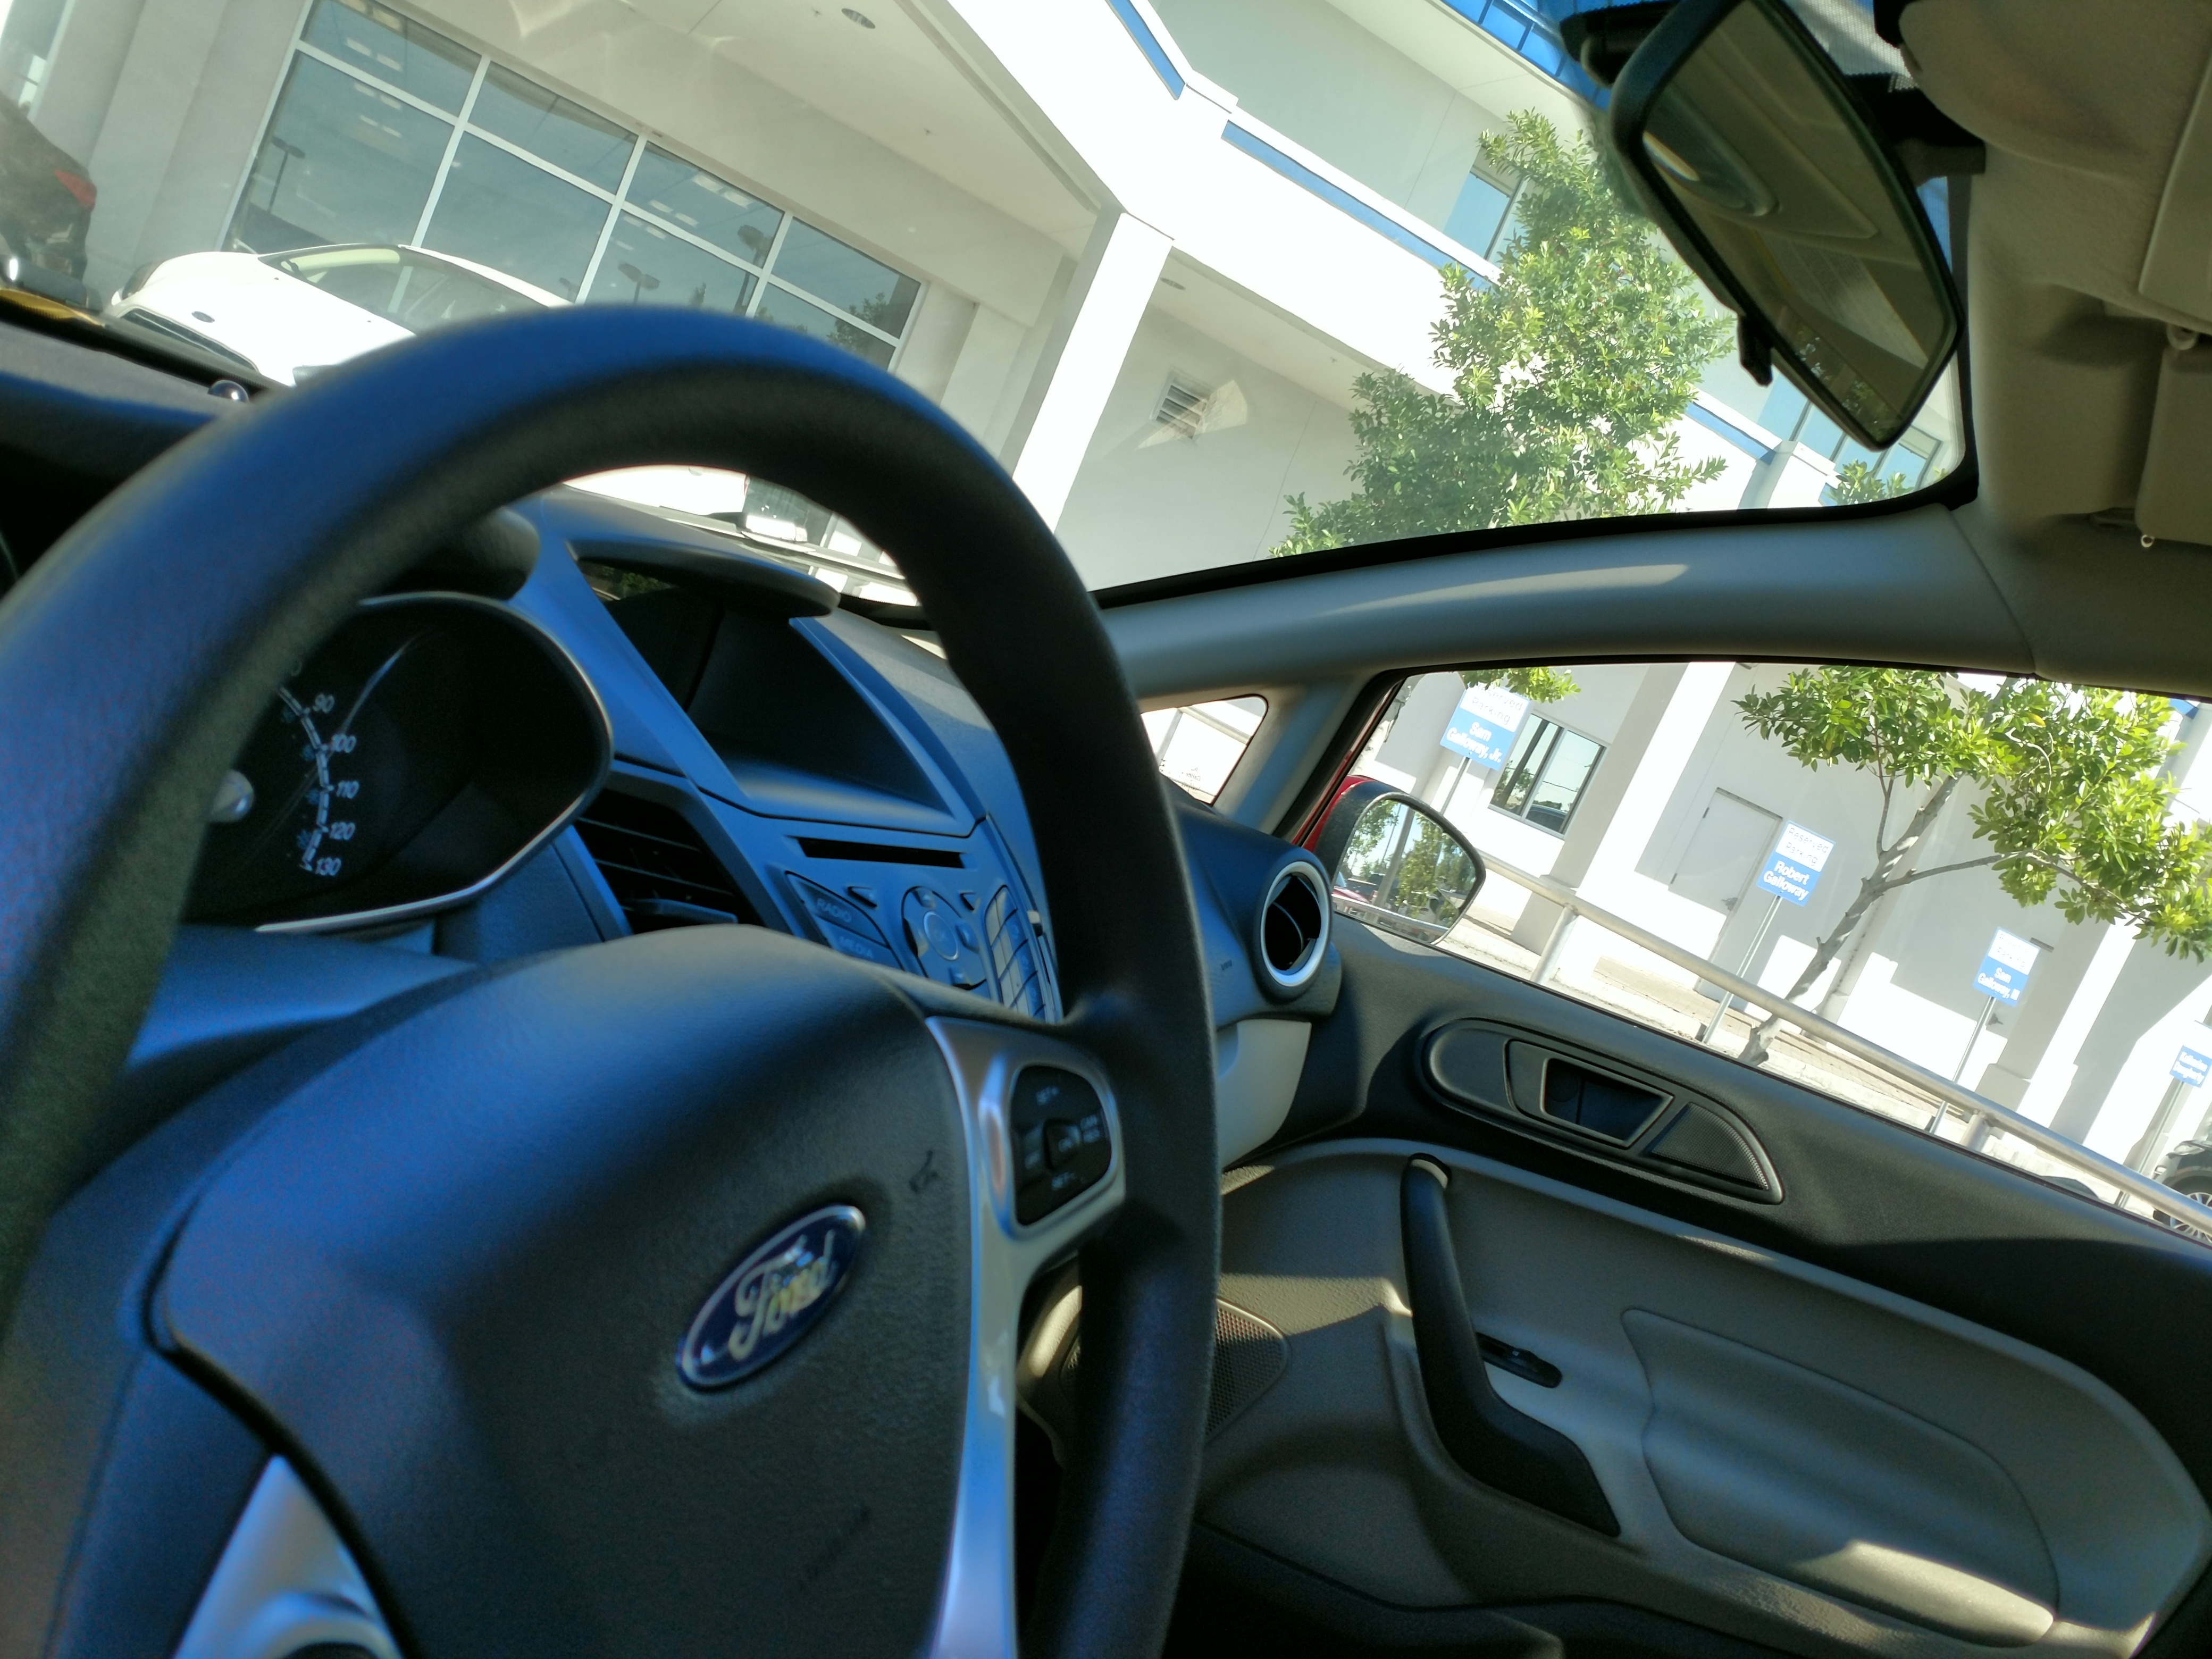Ford: (643, 1187, 888, 1405)
